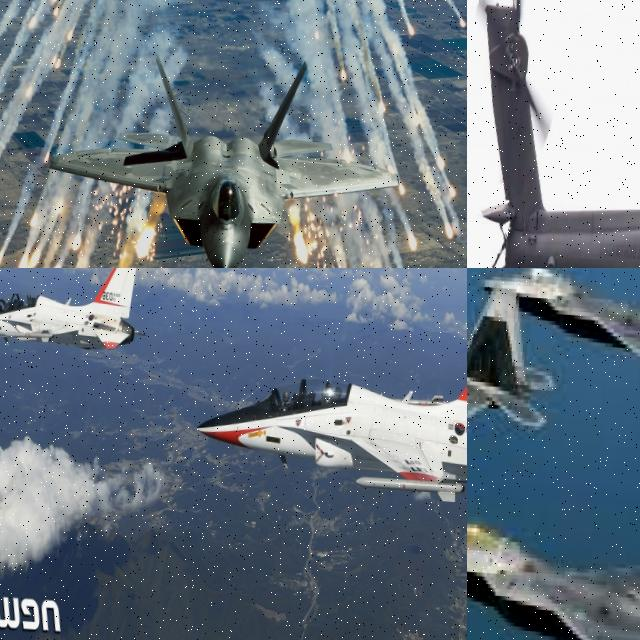Apache: (467, 0, 640, 268)
F22: (42, 49, 407, 268), (467, 474, 640, 640), (473, 268, 640, 371), (467, 270, 562, 430)
KT-1: (187, 276, 467, 536), (0, 268, 152, 368)
